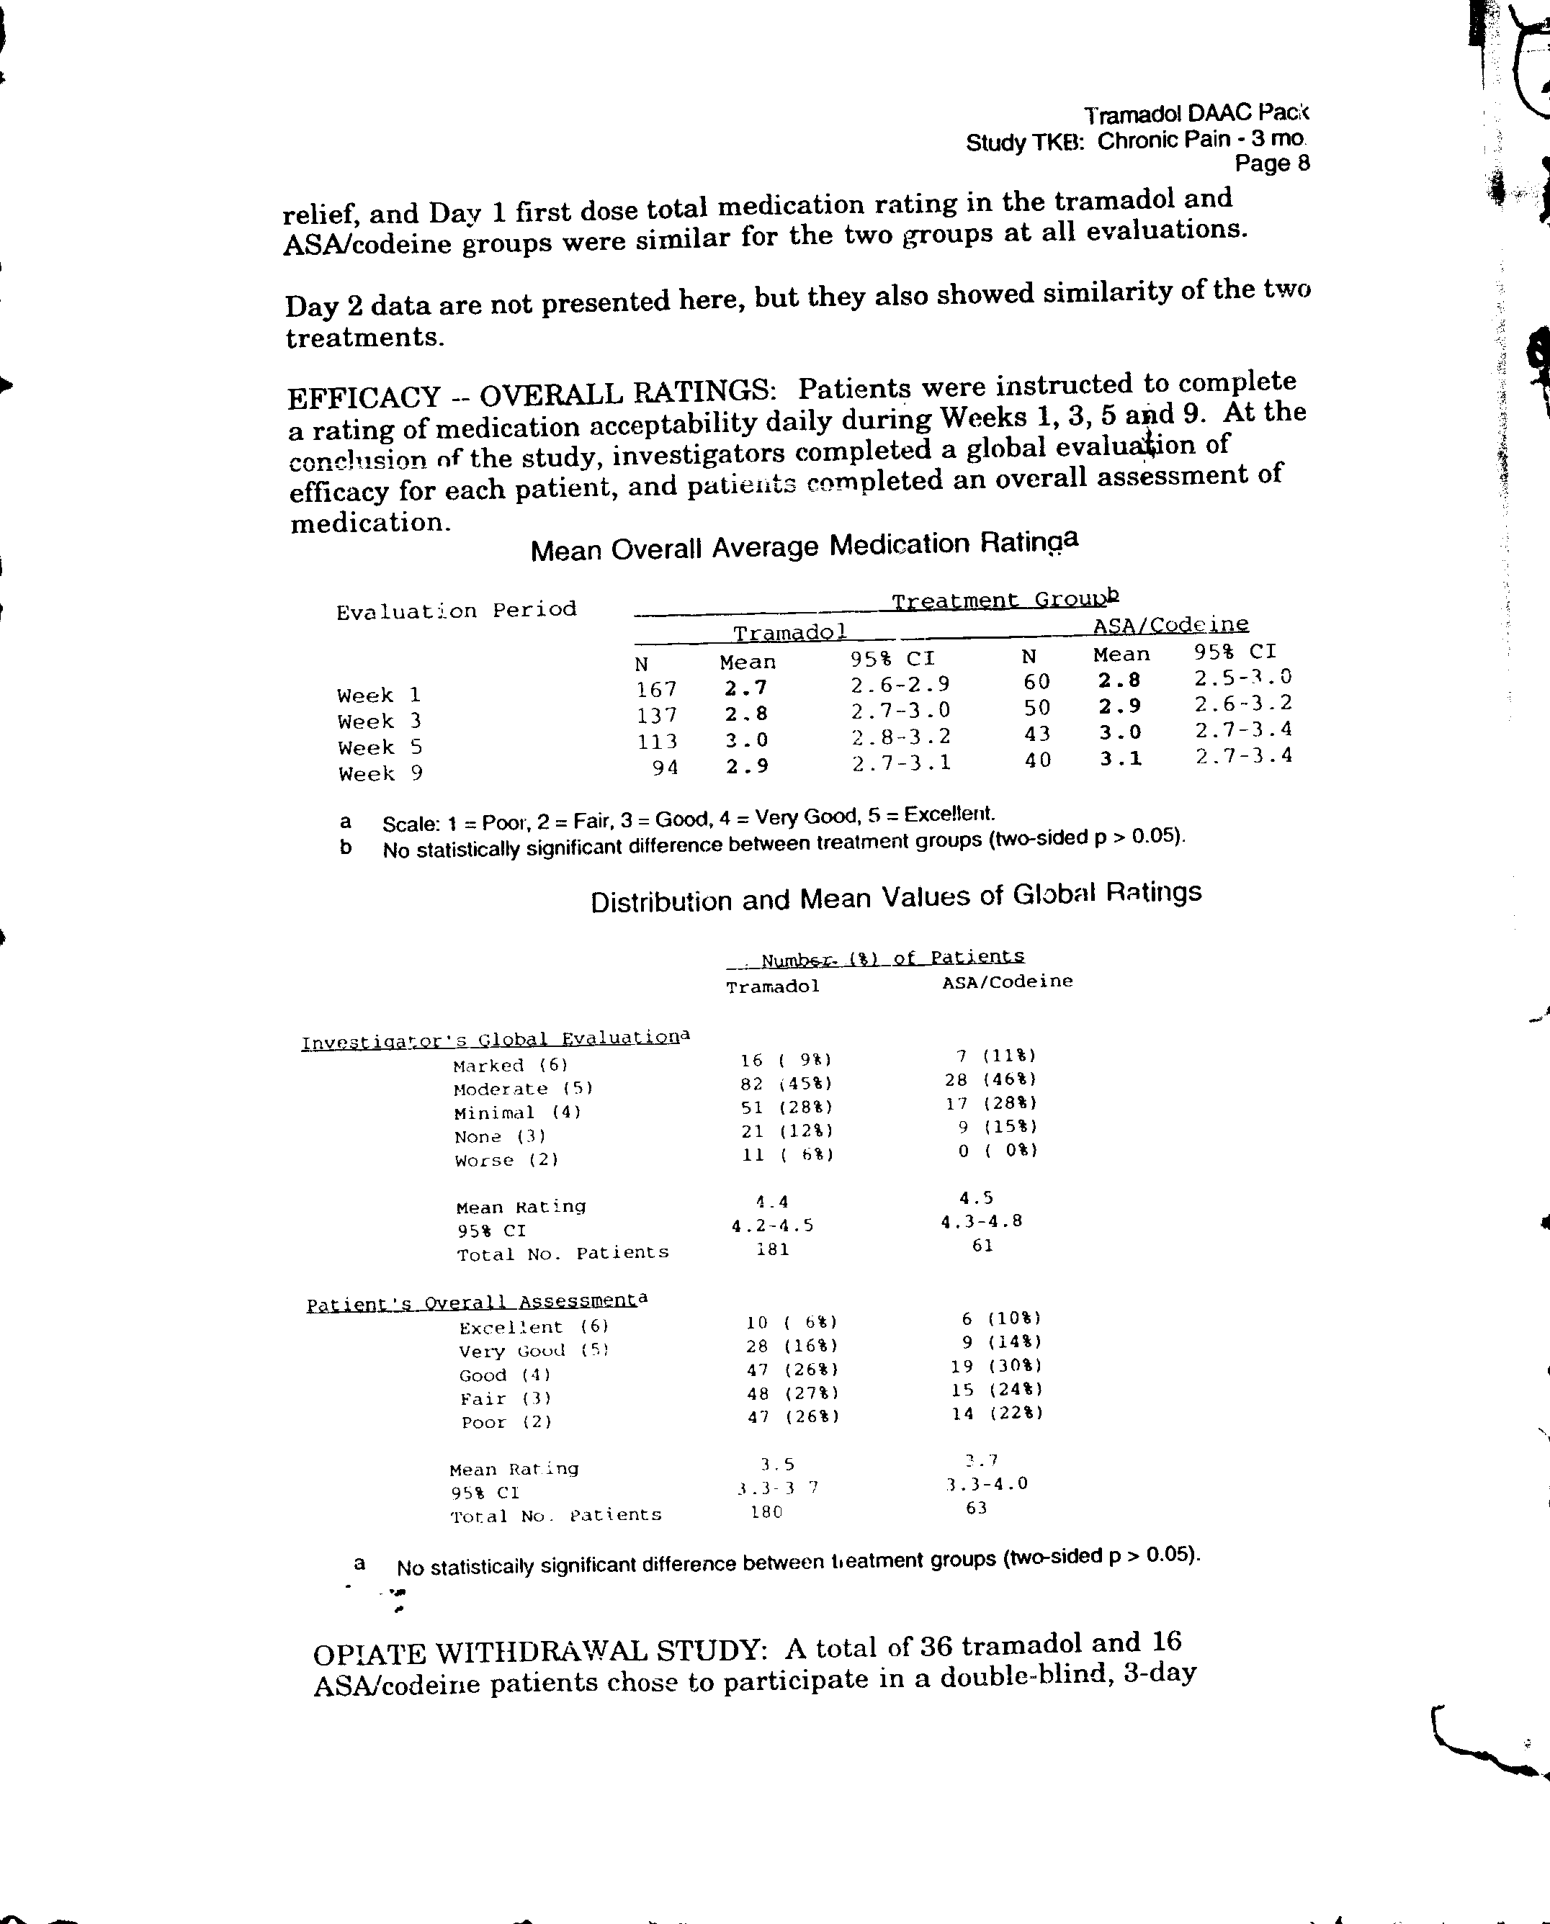nolines: (299, 947, 1079, 1529), (331, 587, 1299, 784)
